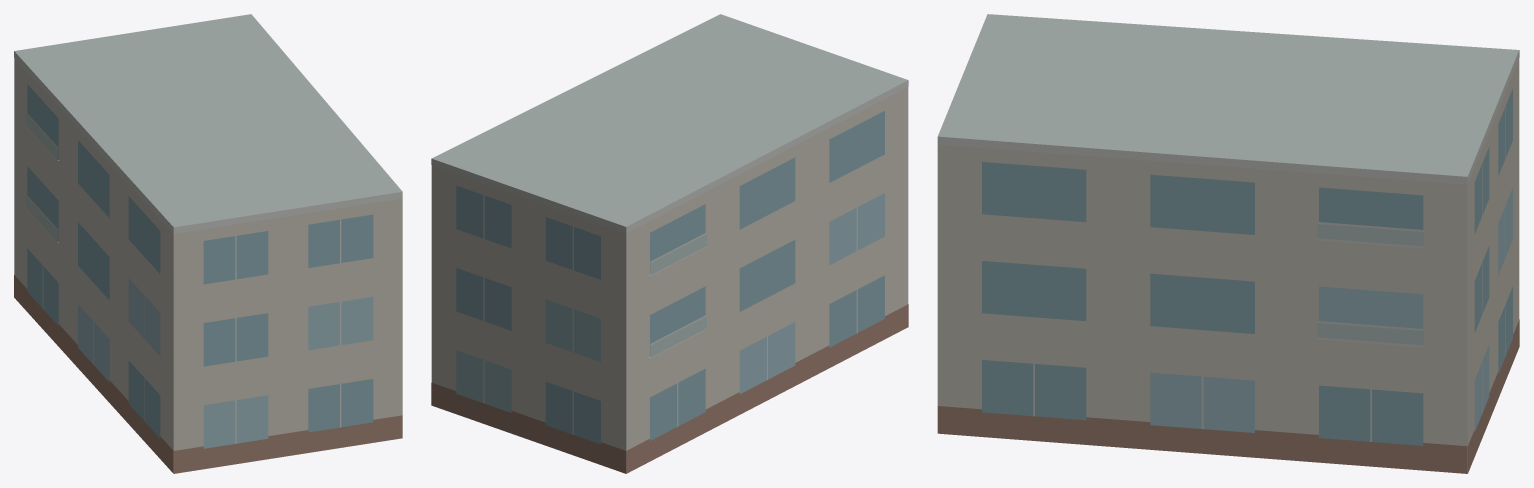
File: survey-upis-32707002.glb
3 renders of one model, left to right at view 1: azimuth 30°, elevation 25°; view 2: azimuth 150°, elevation 25°; view 3: azimuth 270°, elevation 25°, orthographic. The views are drawn at different scales.
Parts seen in each view (by area): view 1: survey-upis-32707002.tmp; view 2: survey-upis-32707002.tmp; view 3: survey-upis-32707002.tmp.
Boxes of the visible parts, x1,y1,x2,y2 form: survey-upis-32707002.tmp: (14,14,402,473); survey-upis-32707002.tmp: (431,14,908,473); survey-upis-32707002.tmp: (937,14,1519,473).
Bounding box in the file's own units: 10.77 × 9.15 × 16.25.
